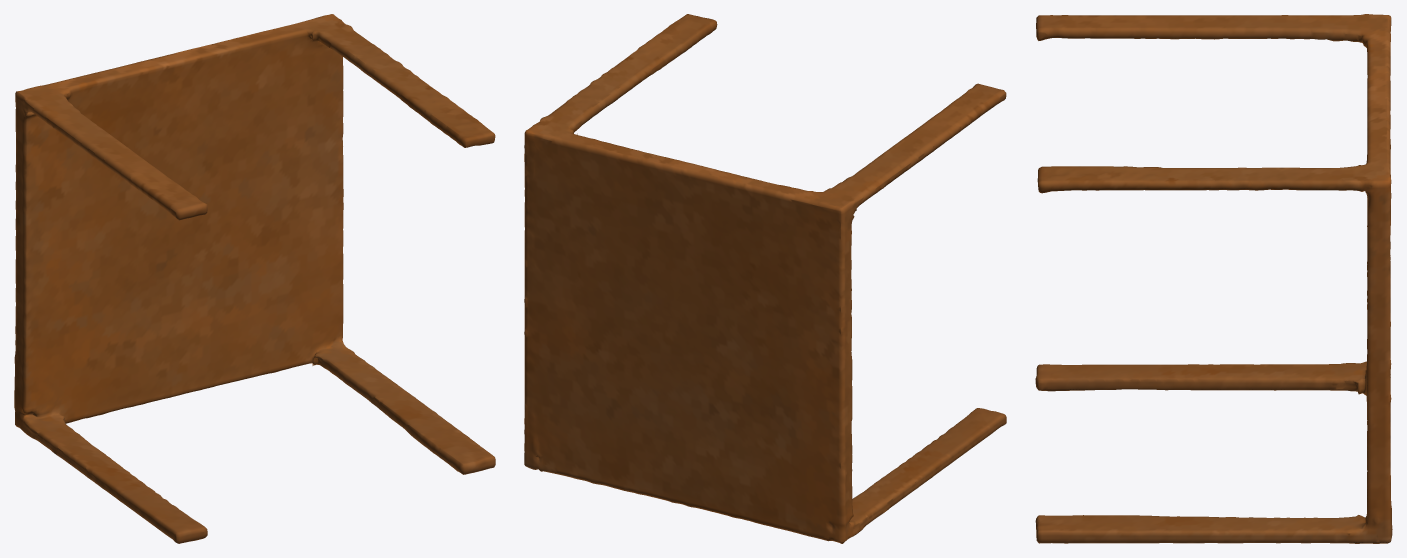
Rendered from A brown wooden table with a rectangular top, but t.glb.
3 views of the same model, side by side, from view 1: azimuth 30°, elevation 25°; view 2: azimuth 150°, elevation 25°; view 3: azimuth 270°, elevation 25° (orthographic). The views are drawn at different scales.
Visible parts, largest first — view 1: A brown wooden table with a rectangular top, but t; view 2: A brown wooden table with a rectangular top, but t; view 3: A brown wooden table with a rectangular top, but t.
Part boxes in pixels (x1,y1,x2,y2): A brown wooden table with a rectangular top, but t: (14, 14, 495, 543); A brown wooden table with a rectangular top, but t: (524, 14, 1006, 543); A brown wooden table with a rectangular top, but t: (1035, 14, 1392, 543).
Bounding box in the file's own units: 1.01 × 1.01 × 0.8964.
